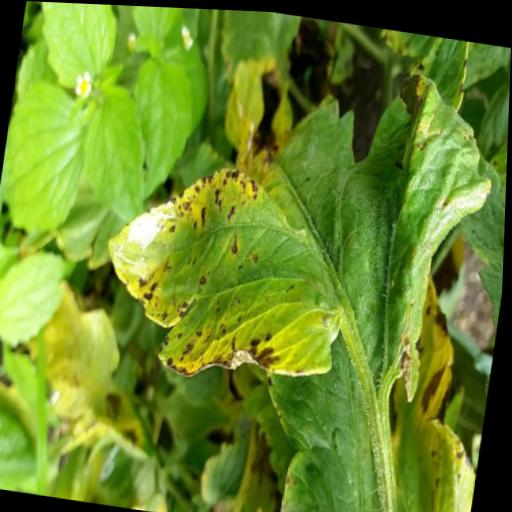Bacterial Spot: (86, 27, 505, 423)
